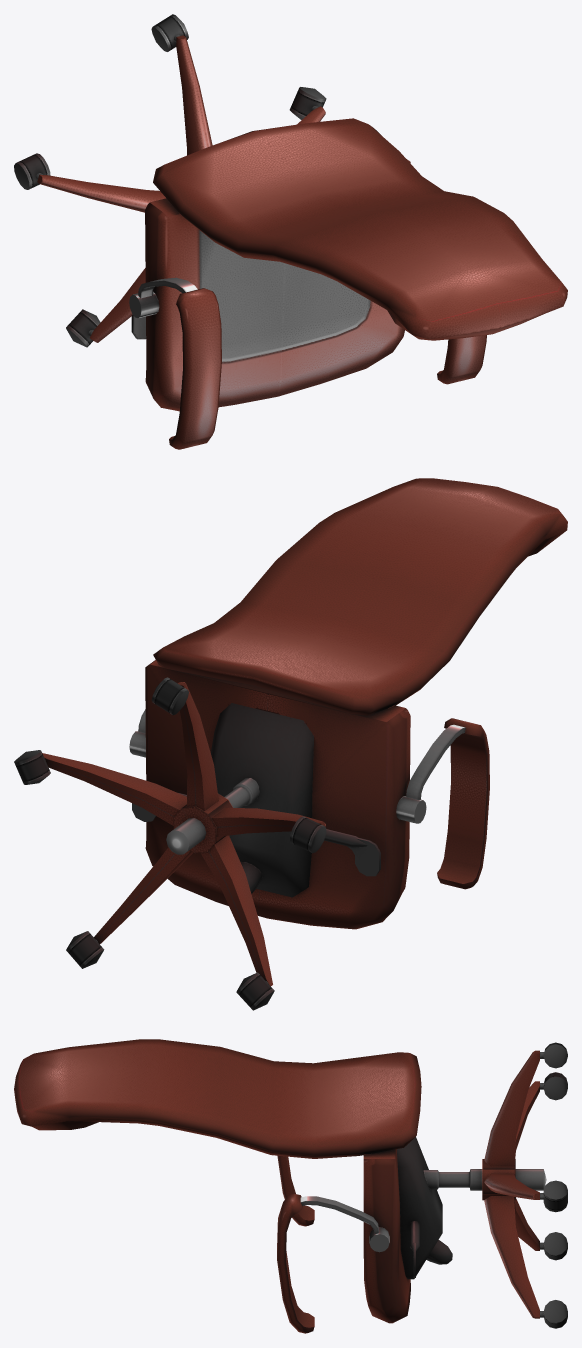
Rendered from DeskChair.obj.
3 views of the same model, one above another, from view 1: azimuth 30°, elevation 25°; view 2: azimuth 150°, elevation 25°; view 3: azimuth 270°, elevation 25° (orthographic). The views are drawn at different scales.
Visible parts, largest first — view 1: DeskChair; view 2: DeskChair; view 3: DeskChair.
Part boxes in pixels (x1=…): DeskChair: x1=14, y1=14, x2=567, y2=449; DeskChair: x1=14, y1=478, x2=567, y2=1010; DeskChair: x1=14, y1=1039, x2=567, y2=1333.
Bounding box in the file's own units: 64.48 × 62.28 × 123.
1 material, 1 textured.
